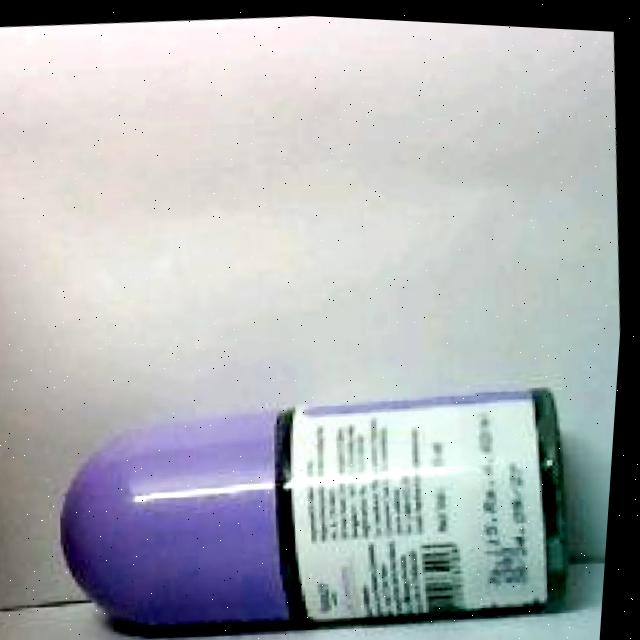yardley_rollon: (68, 381, 576, 628)
